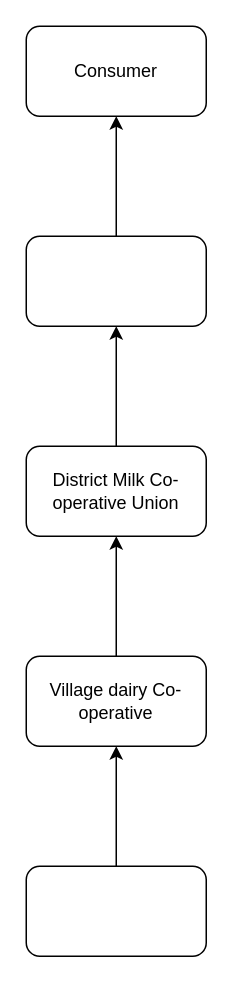
Some shapes in this 233 by 983 pixel diagram are drawn without their labels. The centre of each missing label's shape, as x and y in pixels:
"Milk Producer" belongs at point 115,910.
"State Co-operative Milk Marketing Federation" belongs at point 115,280.
